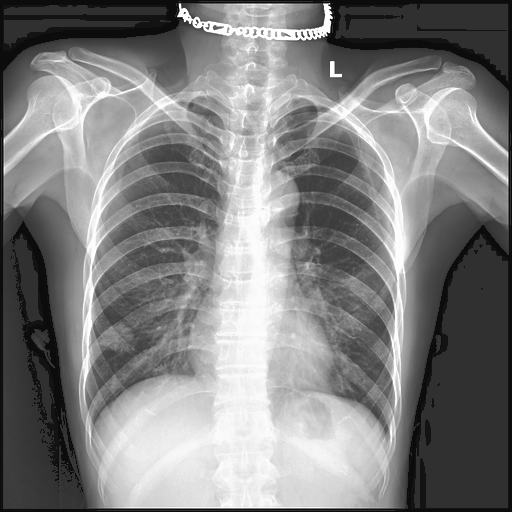Aortic enlargement: (99, 323, 136, 351)
Pleural thickening: (99, 323, 136, 351)
Pulmonary fibrosis: (100, 321, 134, 352)
